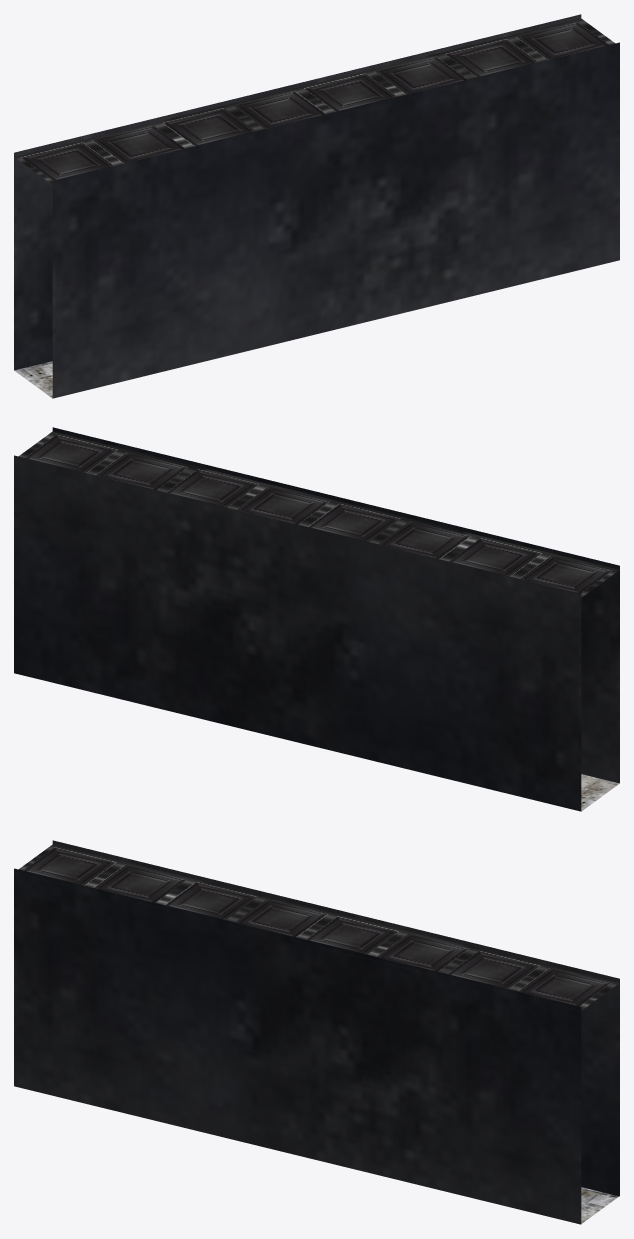
File: infin-hallwy.glb
The picture shows the model from 3 angles, top to bottom: view 1: azimuth 30°, elevation 25°; view 2: azimuth 150°, elevation 25°; view 3: azimuth 330°, elevation 25°; orthographic projection.
Parts seen in each view (by area): view 1: inf_hallway_wls, inf_hallway_ceiling_tile, inf_hallway_ceiling_bars, inf_hallway_floor.001; view 2: inf_hallway_wls, inf_hallway_ceiling_tile, inf_hallway_ceiling_bars, inf_hallway_floor.001; view 3: inf_hallway_wls, inf_hallway_ceiling_tile, inf_hallway_ceiling_bars, inf_hallway_floor.001.
Part boxes in pixels (left/top/right/bottom): inf_hallway_wls: left=14, top=14, right=619, bottom=398; inf_hallway_ceiling_tile: left=21, top=22, right=608, bottom=180; inf_hallway_ceiling_bars: left=14, top=18, right=615, bottom=184; inf_hallway_floor.001: left=14, top=260, right=617, bottom=398; inf_hallway_wls: left=14, top=427, right=619, bottom=811; inf_hallway_ceiling_tile: left=25, top=435, right=612, bottom=593; inf_hallway_ceiling_bars: left=18, top=431, right=619, bottom=597; inf_hallway_floor.001: left=16, top=673, right=619, bottom=811; inf_hallway_wls: left=14, top=840, right=619, bottom=1224; inf_hallway_ceiling_tile: left=23, top=847, right=610, bottom=1006; inf_hallway_ceiling_bars: left=14, top=844, right=619, bottom=1010; inf_hallway_floor.001: left=20, top=1087, right=618, bottom=1223.
Bounding box in the file's own units: 32.54 × 11.94 × 3.85.
4 materials, 4 textured.
